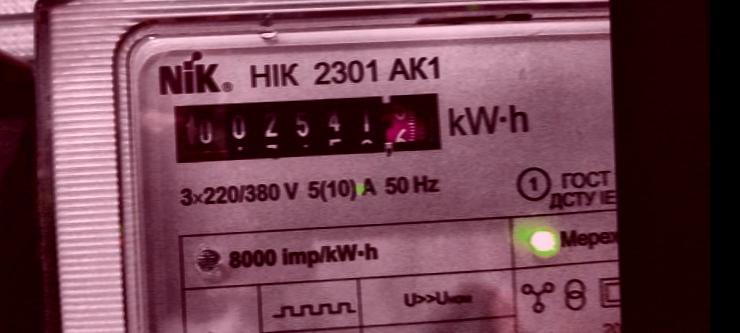0: (227, 110, 247, 143), (196, 117, 214, 146)
1: (355, 102, 372, 136)
2: (258, 107, 280, 142)
4: (324, 104, 342, 136)
5: (292, 108, 309, 141)
6: (391, 125, 407, 146)
screen: (158, 79, 461, 180)
